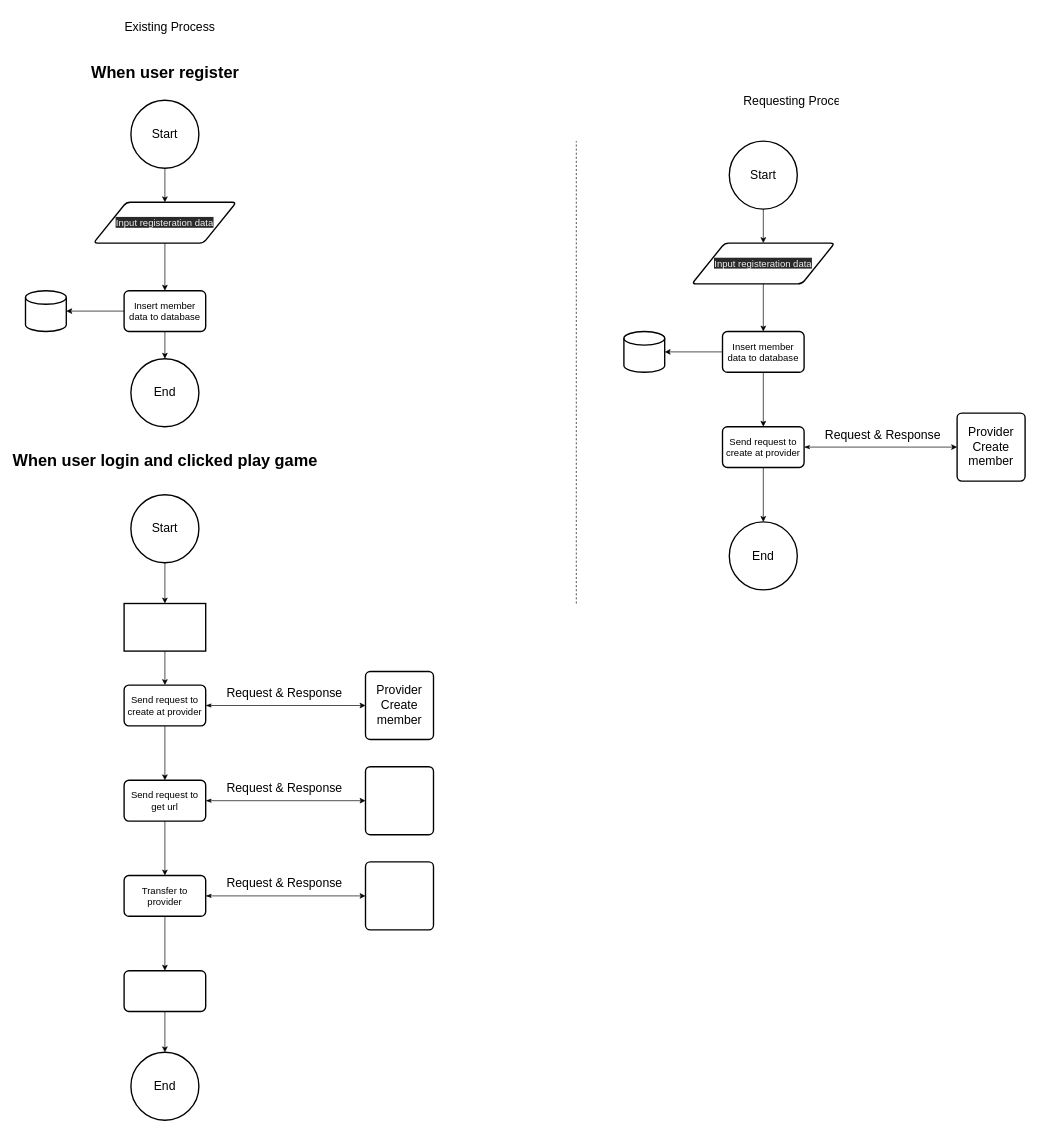
Image size: 1037x1132. Some labels were removed from this diagram. Here are the shapes that lost their labels. From the top down, the centre of each, then its label:
At point 164,626: "member login game".
At point 399,800: "Provider Login Game".
At point 399,895: "Provider Deposit".
At point 164,991: "Response url to user".
